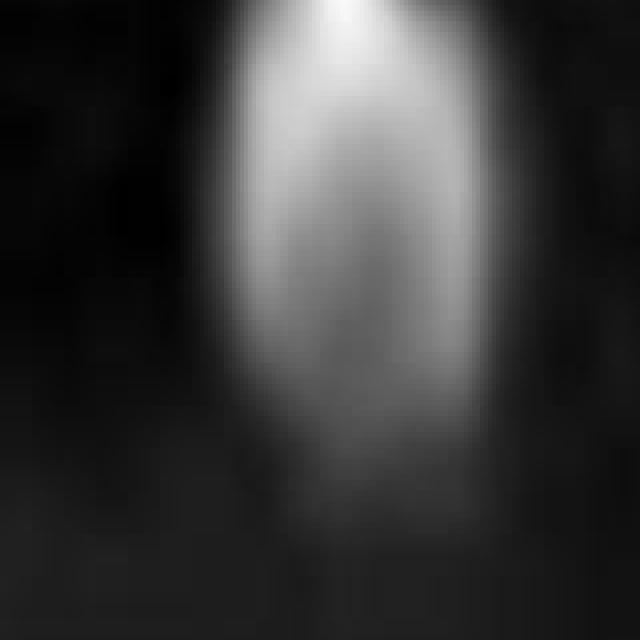person: (205, 1, 509, 513)
